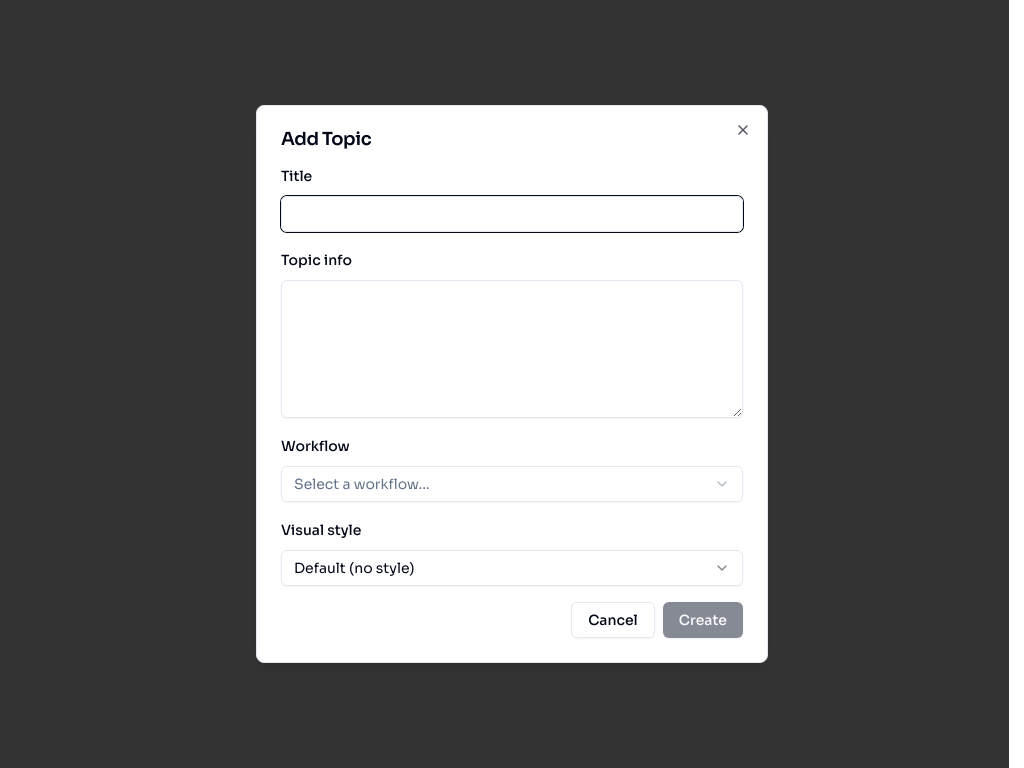
it: AddVideoModal › submit is disabled until all three fields are filled
Expected: the button "Create" is disabled, [663,602,743,638]
Type "t" into the field labelled "Title" at (512, 214), box [281,196,743,232]
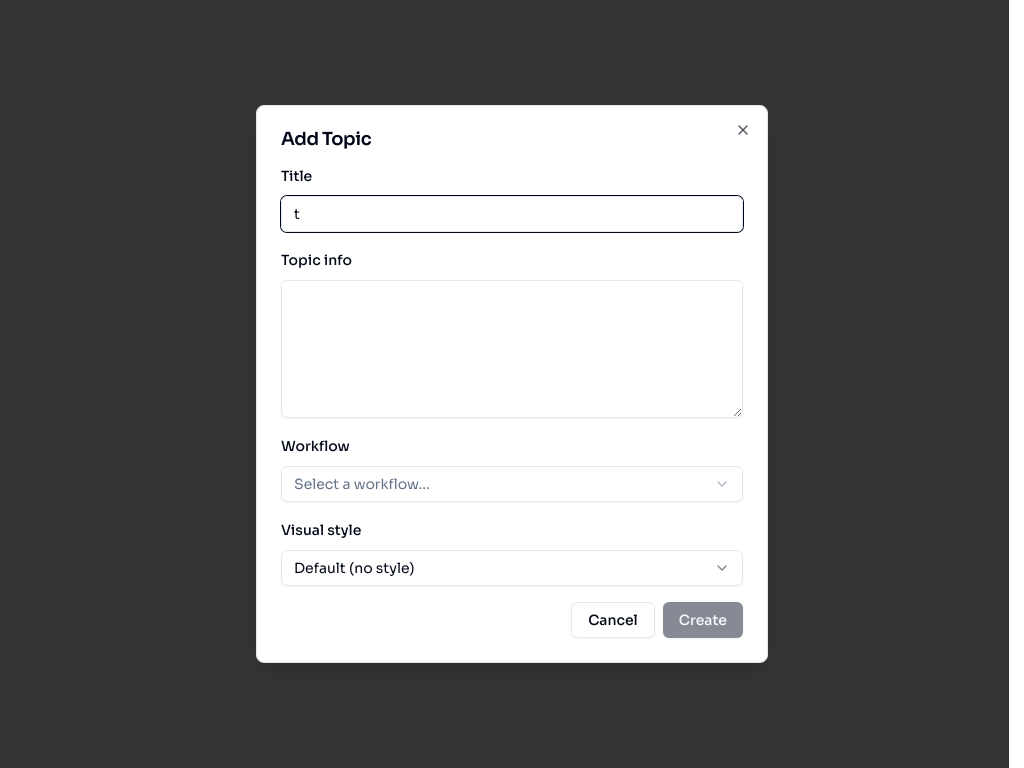
Expected: the button "Create" is disabled, [663,602,743,638]
Type "i" into the text box labelled "Topic info" at (512, 349), box [281,280,743,418]
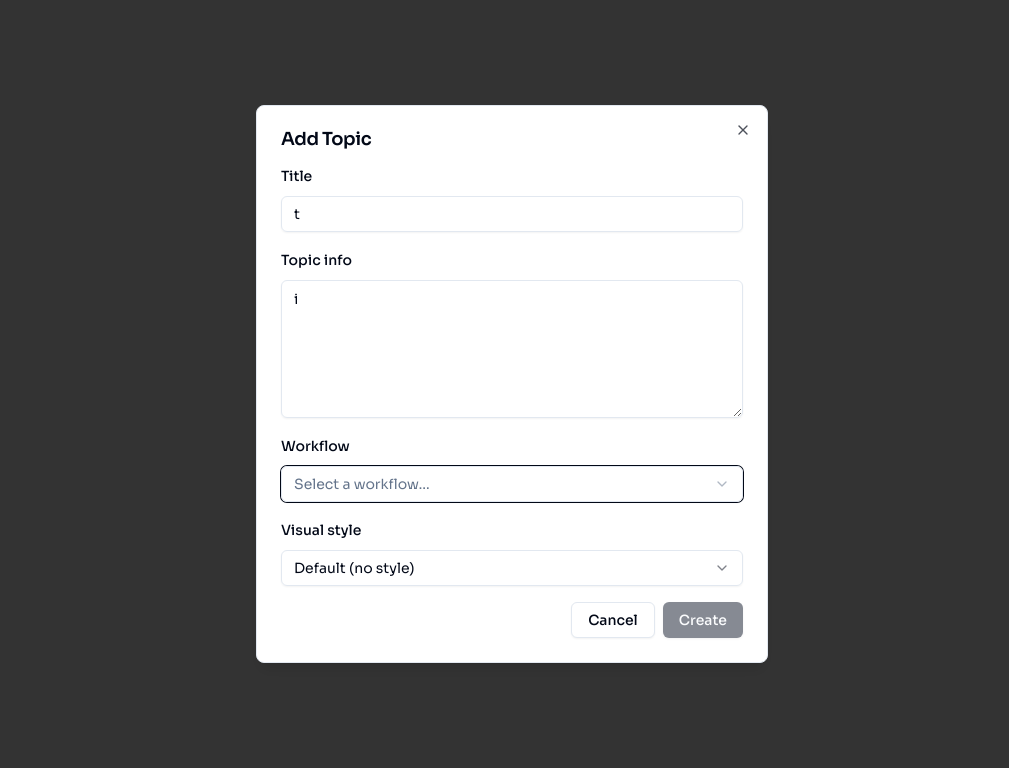
Expected: the button "Create" is disabled, [663,602,743,638]
Press Enter in the dropdown labelled "Select a workflow…", box [281,466,743,502]
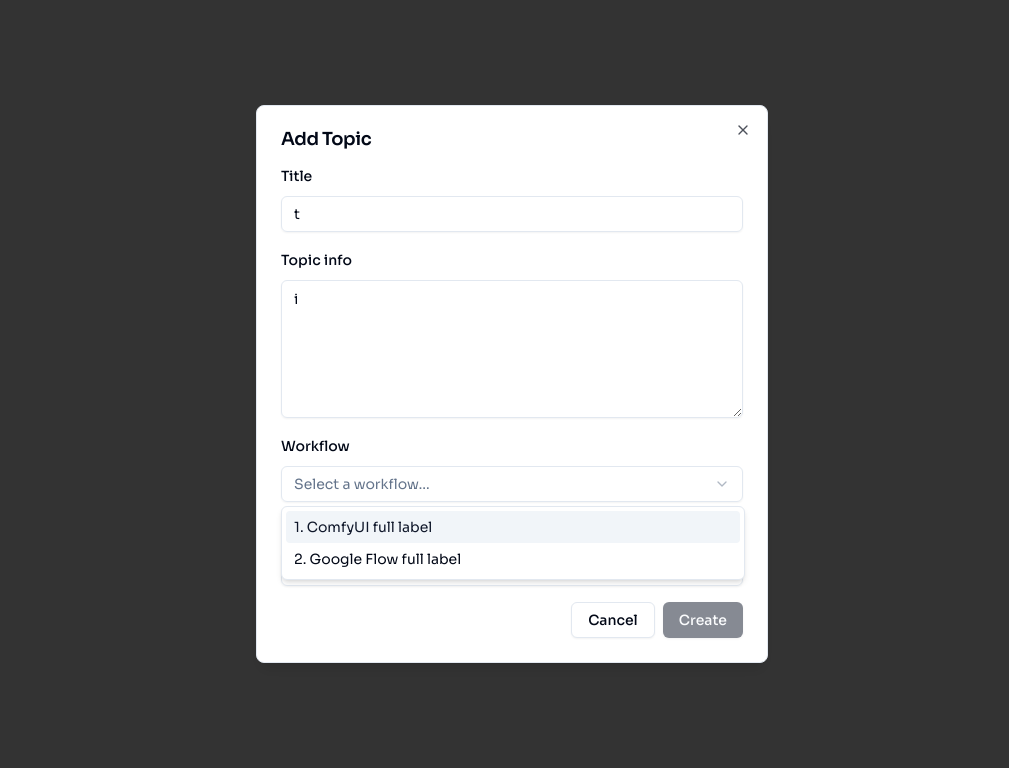
Click the option "1. ComfyUI full label" at (370, 527), box [286,511,740,543]
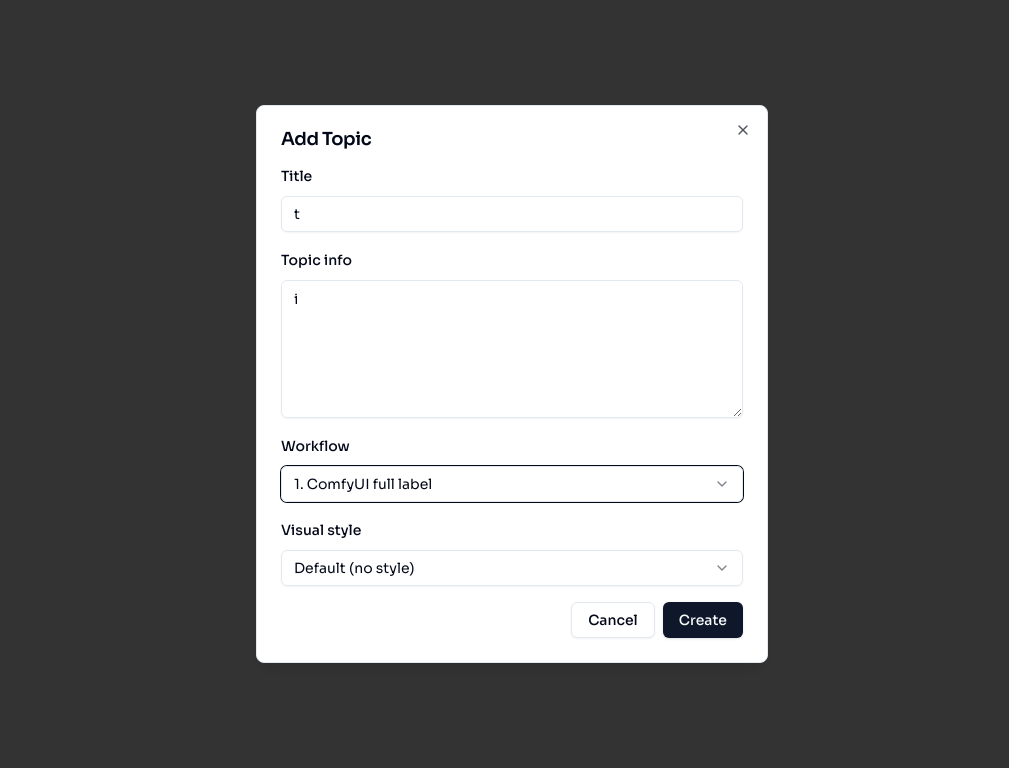
Now the button "Create" is enabled, box [663,602,743,638]
